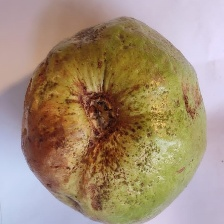guava: (8, 31, 191, 213)
